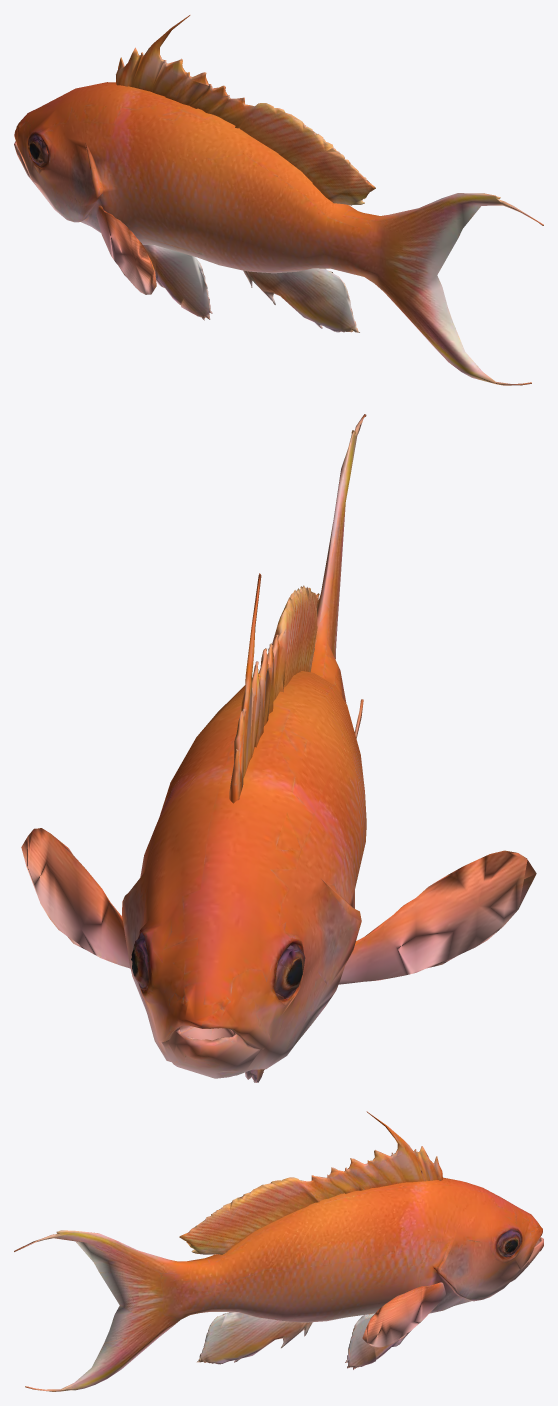
File: juweelbaarsje.glb
The picture shows the model from 3 angles, top to bottom: view 1: azimuth 30°, elevation 25°; view 2: azimuth 150°, elevation 25°; view 3: azimuth 270°, elevation 25°; orthographic projection. The views are drawn at different scales.
Visible parts, largest first — view 1: tripo_node_41c85e2a-a762-430f-852b-832e8d8e0dce; view 2: tripo_node_41c85e2a-a762-430f-852b-832e8d8e0dce; view 3: tripo_node_41c85e2a-a762-430f-852b-832e8d8e0dce.
Part boxes in pixels (x1,y1,x2,y2): tripo_node_41c85e2a-a762-430f-852b-832e8d8e0dce: (14,15,543,385); tripo_node_41c85e2a-a762-430f-852b-832e8d8e0dce: (21,414,536,1082); tripo_node_41c85e2a-a762-430f-852b-832e8d8e0dce: (14,1111,543,1391).
Bounding box in the file's own units: 0.1692 × 0.2 × 0.3744.
1 material, 1 textured.
